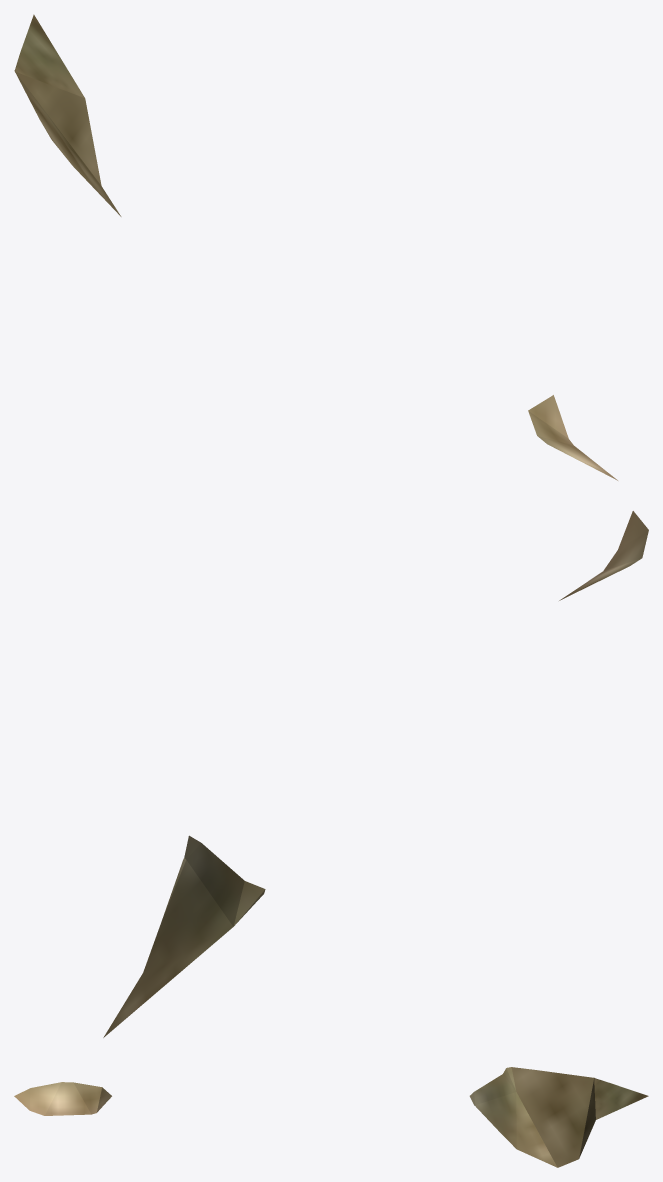
The picture shows the model from 3 angles, top to bottom: view 1: azimuth 30°, elevation 25°; view 2: azimuth 150°, elevation 25°; view 3: azimuth 270°, elevation 25°; orthographic projection. The views are drawn at different scales.
Bounding box in the file's own units: 0.2339 × 0.2695 × 2.16.
Materials: 1 (1 with a texture image).
